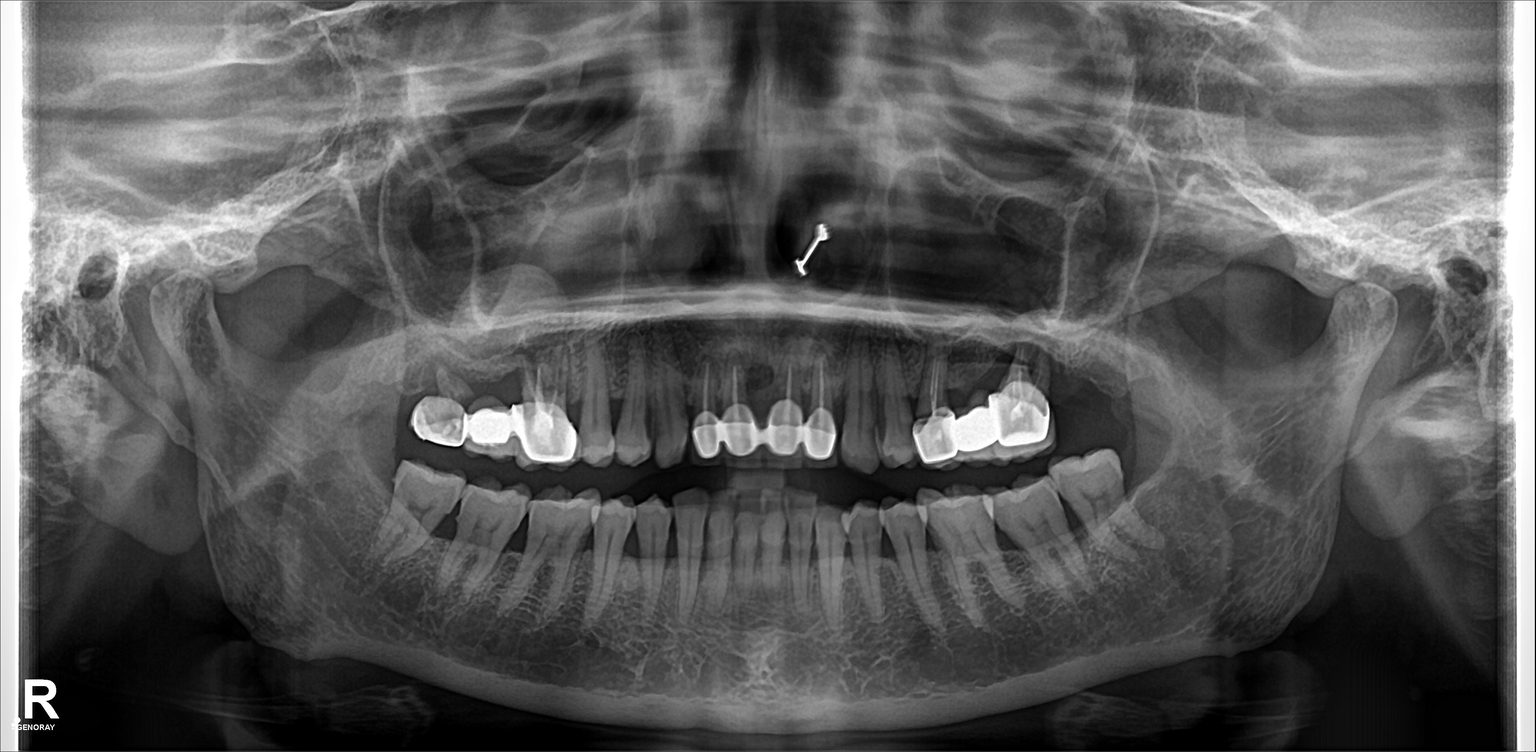Endodontically Treated Tooth: (996, 348, 1050, 441), (942, 367, 994, 456), (466, 365, 511, 460), (421, 359, 466, 450), (909, 359, 946, 465), (719, 379, 772, 450), (529, 367, 569, 460), (795, 370, 833, 451), (693, 367, 726, 453), (767, 374, 796, 447)
Missing Tooth: (380, 361, 414, 448), (1089, 356, 1125, 432), (1065, 356, 1085, 436)
